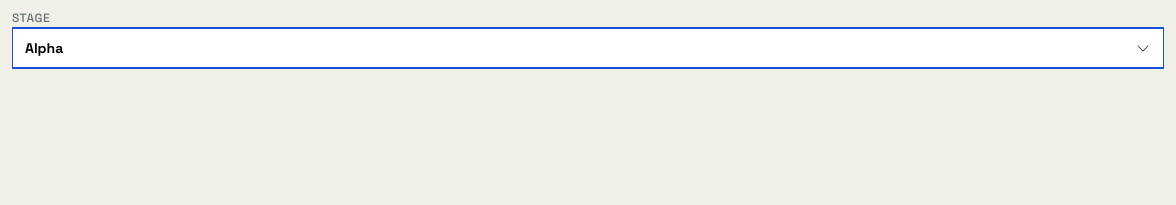
Dropdown › opens with ArrowDown, moves with arrows, and returns focus after a choice
Press ArrowDown in the button named "Stage Alpha", box [12, 28, 1164, 68]
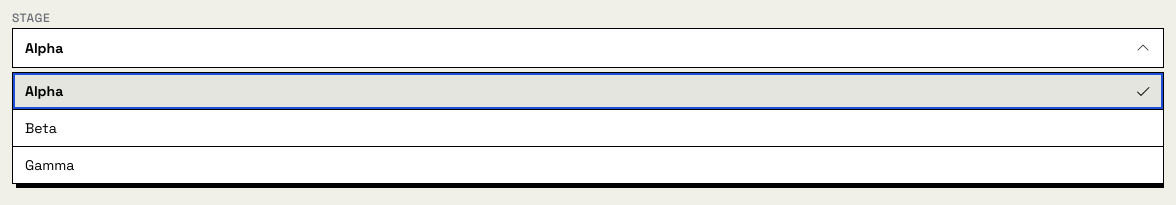
Press ArrowDown in the option "Alpha", box [13, 73, 1163, 110]
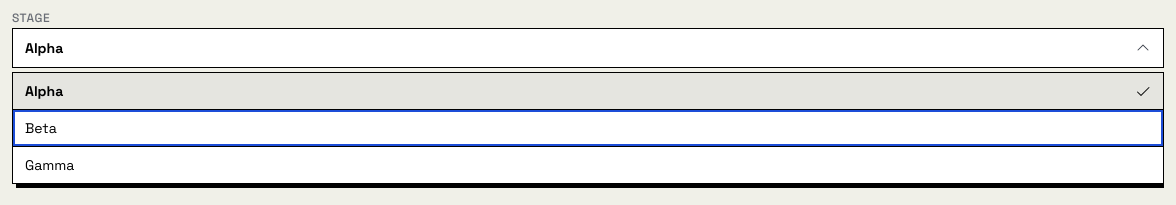
Click the option "Beta": coordinates (41, 128) [13, 110, 1163, 147]
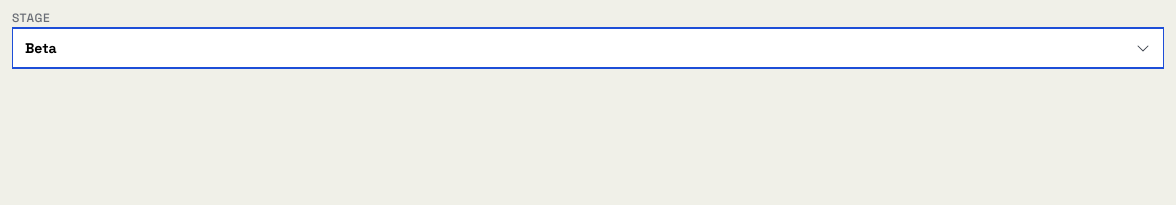
Result: the list is gone
